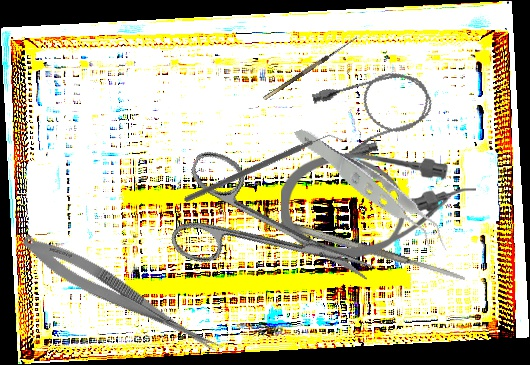Cannula: (281, 154, 476, 257), (302, 60, 442, 168)
Chopper: (183, 84, 344, 256)
Hook Surgical: (259, 31, 359, 101)
Iris Scissors: (158, 145, 391, 327)
Micro Scissor: (15, 227, 230, 362)
Spatula Surgical: (279, 218, 467, 284)
Tissue Forceps: (293, 95, 448, 288)
